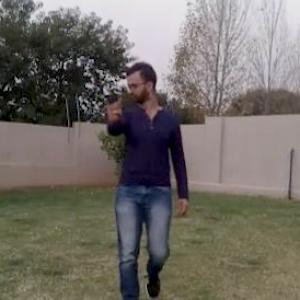takeoff-hand: (97, 78, 126, 128)
